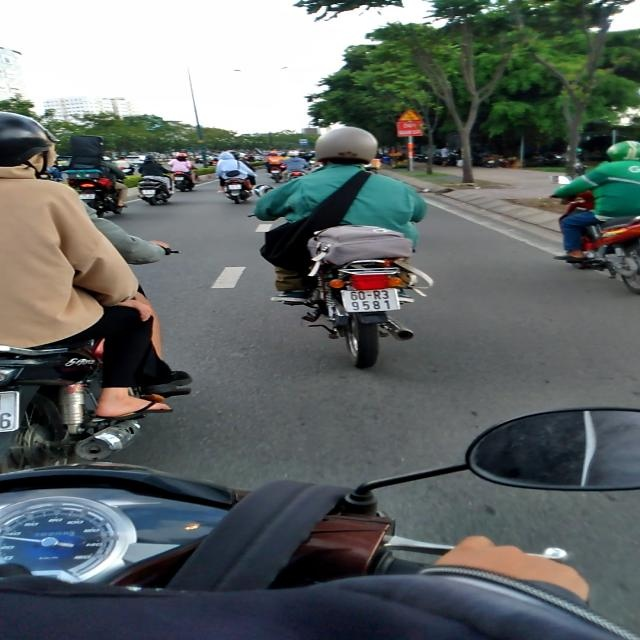bien_nguy_hiem: (398, 108, 422, 121)
